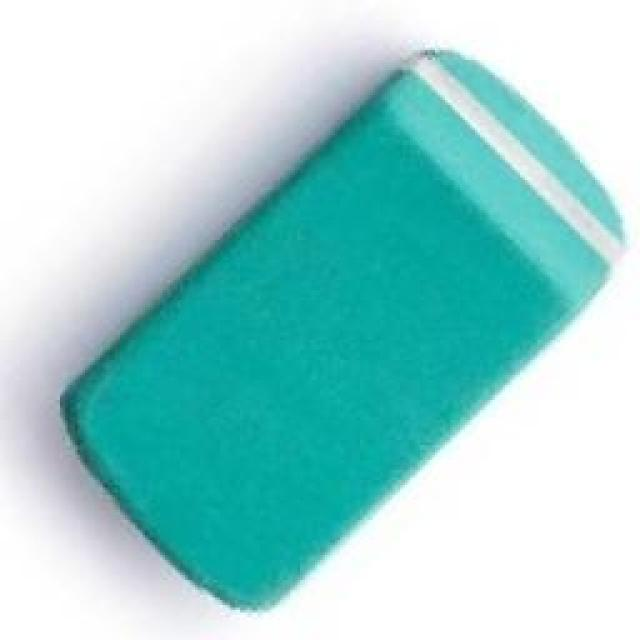Silgi: (58, 44, 628, 614)
